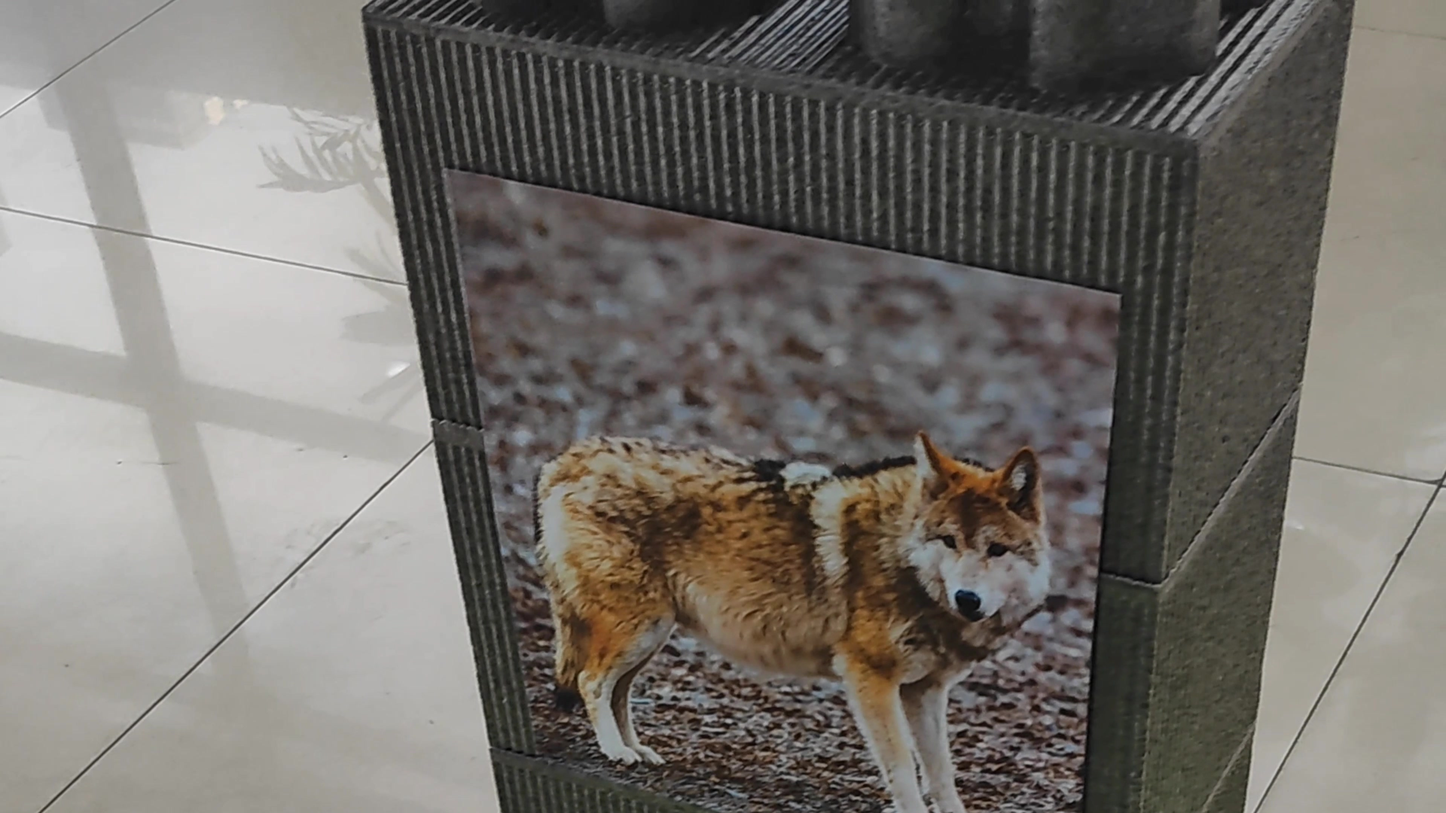wolf: (496, 305, 1062, 803)
